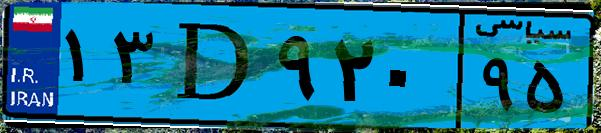0: (385, 28, 445, 110)
1: (57, 26, 110, 100)
2: (330, 28, 385, 110)
3: (110, 28, 158, 98)
5: (525, 38, 570, 115)
9: (270, 28, 330, 110), (475, 38, 525, 113)
D: (158, 12, 270, 120)
